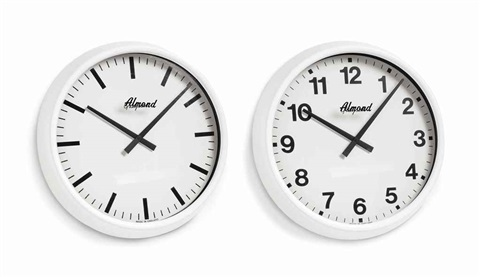clock: (272, 53, 439, 224), (57, 51, 221, 224)
